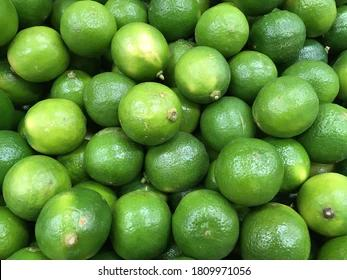lime: (34, 185, 111, 265), (171, 186, 239, 264), (215, 135, 284, 207), (118, 80, 184, 149), (113, 188, 173, 261), (248, 75, 318, 137), (243, 204, 316, 260), (7, 25, 71, 85), (107, 20, 170, 77), (22, 96, 86, 151), (57, 0, 114, 61), (297, 169, 347, 236), (173, 45, 231, 102), (192, 3, 248, 52)
